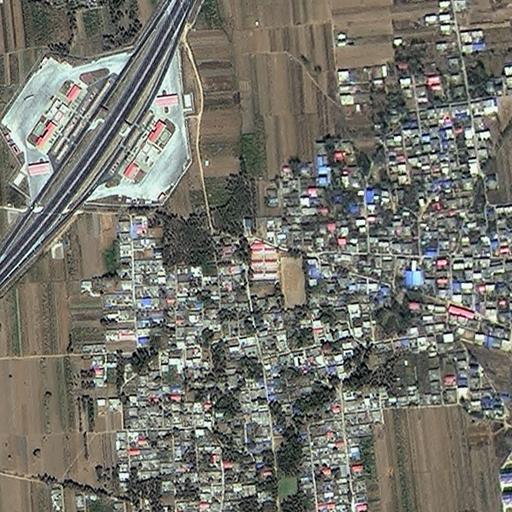school: (248, 245, 306, 311)
